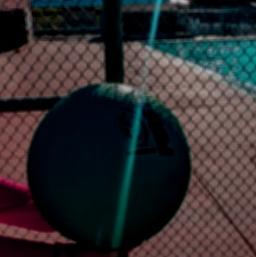algae: (27, 80, 192, 251)
